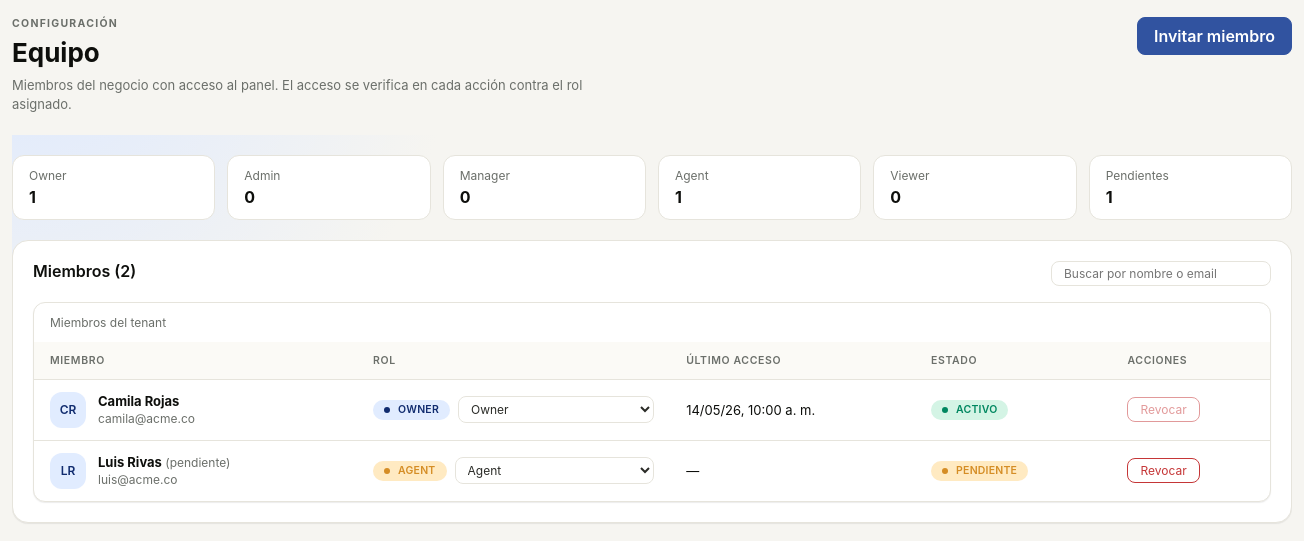
TeamModule › filters the members table by the search box
Expected: the text "Camila Rojas" is shown, x1=98 y1=393 x2=179 y2=409
Type "luis" into the search field named "Buscar miembros" at (1161, 273), box x1=1051 y1=261 x2=1271 y2=286
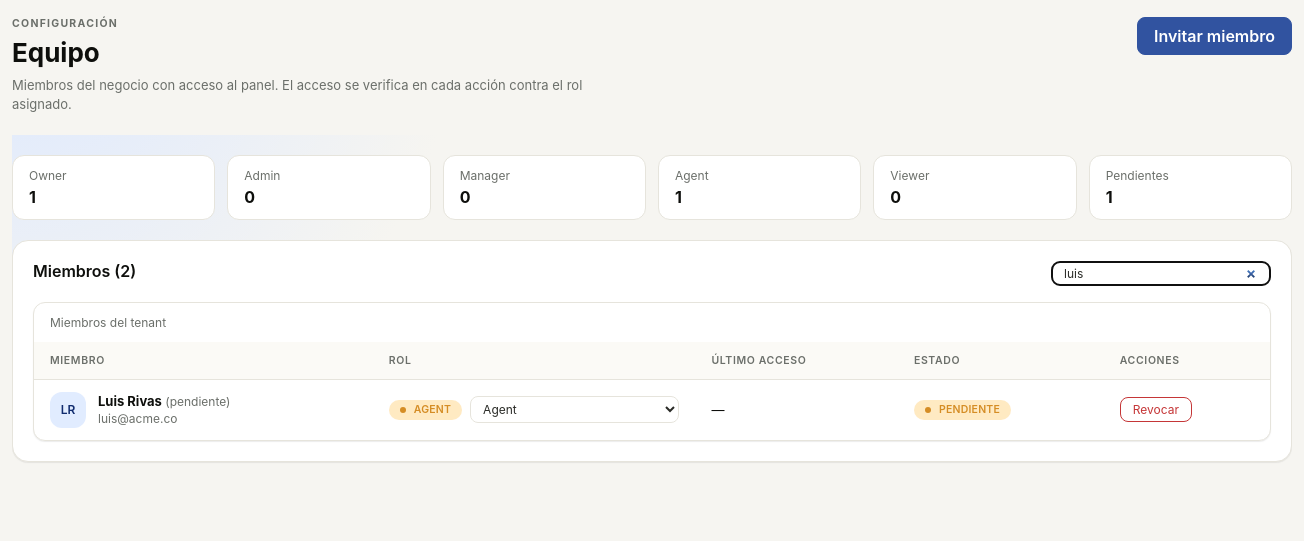
Expected: the text "Luis Rivas" is shown, x1=98 y1=393 x2=162 y2=409
Now the text "Camila Rojas" is gone
